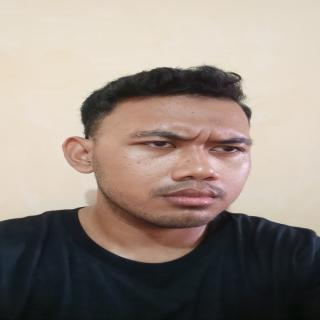Marah: (91, 92, 260, 232)
